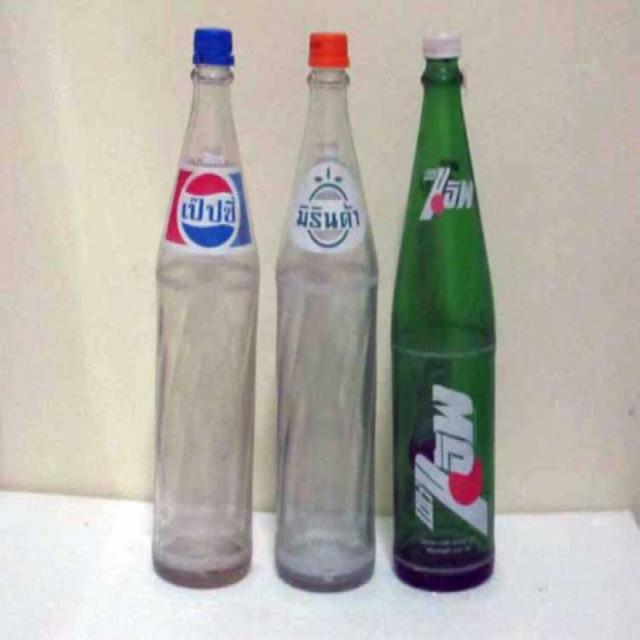glass-bottle: (389, 46, 512, 604), (273, 22, 385, 600), (149, 18, 260, 596)
